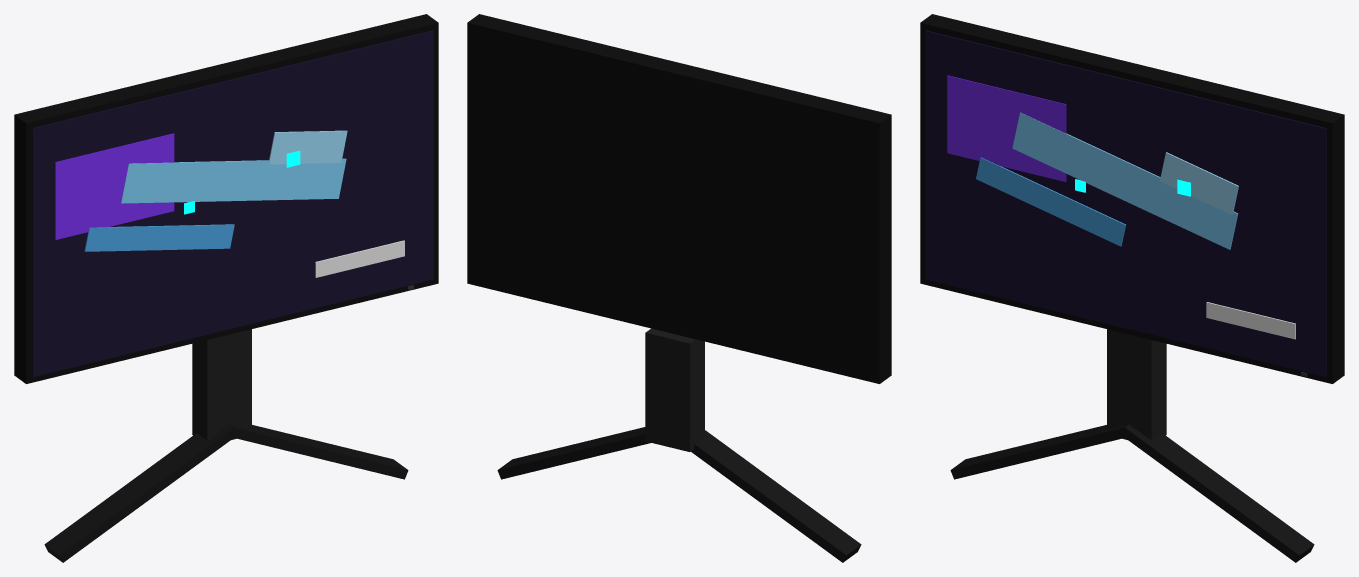
Rendered from 24-monitor-samsung-odyssey-g3.glb.
The picture shows the model from 3 angles, left to right: view 1: azimuth 30°, elevation 25°; view 2: azimuth 150°, elevation 25°; view 3: azimuth 330°, elevation 25°; orthographic projection.
Size of the model in its own units: 0.556 by 0.576 by 0.0457.
